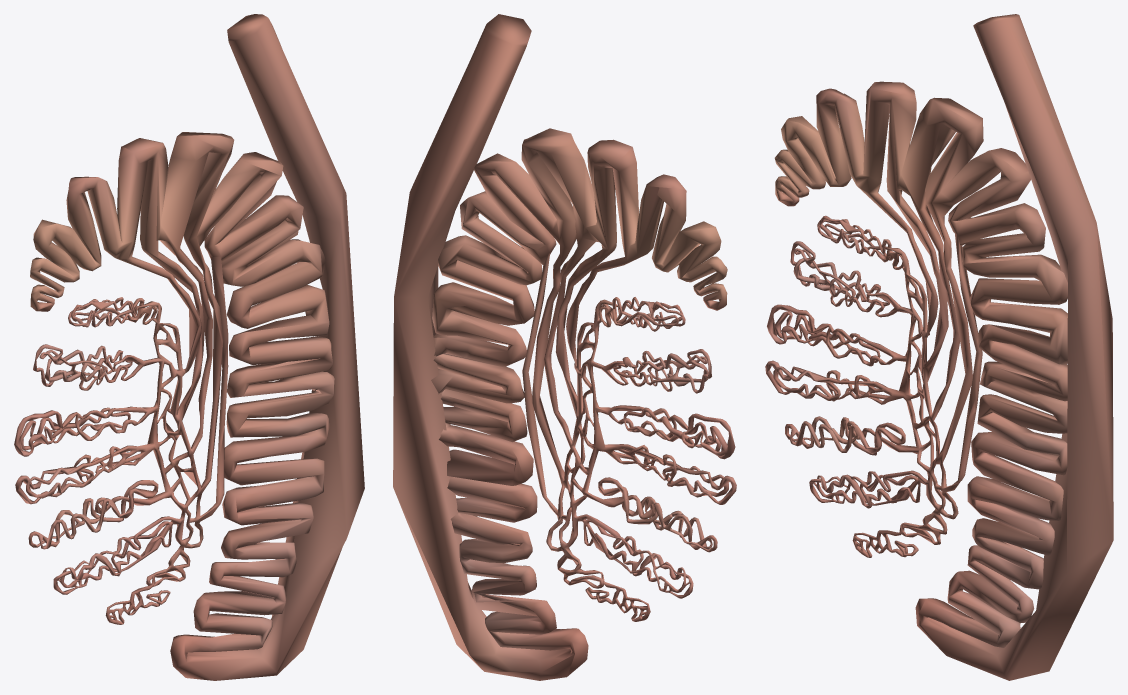
3 views of the same model, side by side, from view 1: azimuth 30°, elevation 25°; view 2: azimuth 150°, elevation 25°; view 3: azimuth 330°, elevation 25° (orthographic).
Visible parts, largest first — view 1: LOD 5_6378092431652634060_a1e5460f9667e624384844bb77a670e0; view 2: LOD 5_6378092431652634060_a1e5460f9667e624384844bb77a670e0; view 3: LOD 5_6378092431652634060_a1e5460f9667e624384844bb77a670e0.
Part boxes in pixels (bbox=[...]): LOD 5_6378092431652634060_a1e5460f9667e624384844bb77a670e0: bbox=[14, 14, 364, 680]; LOD 5_6378092431652634060_a1e5460f9667e624384844bb77a670e0: bbox=[393, 14, 736, 680]; LOD 5_6378092431652634060_a1e5460f9667e624384844bb77a670e0: bbox=[765, 14, 1113, 680].
Bounding box in the file's own units: 6.77 × 12.27 × 0.9675.
